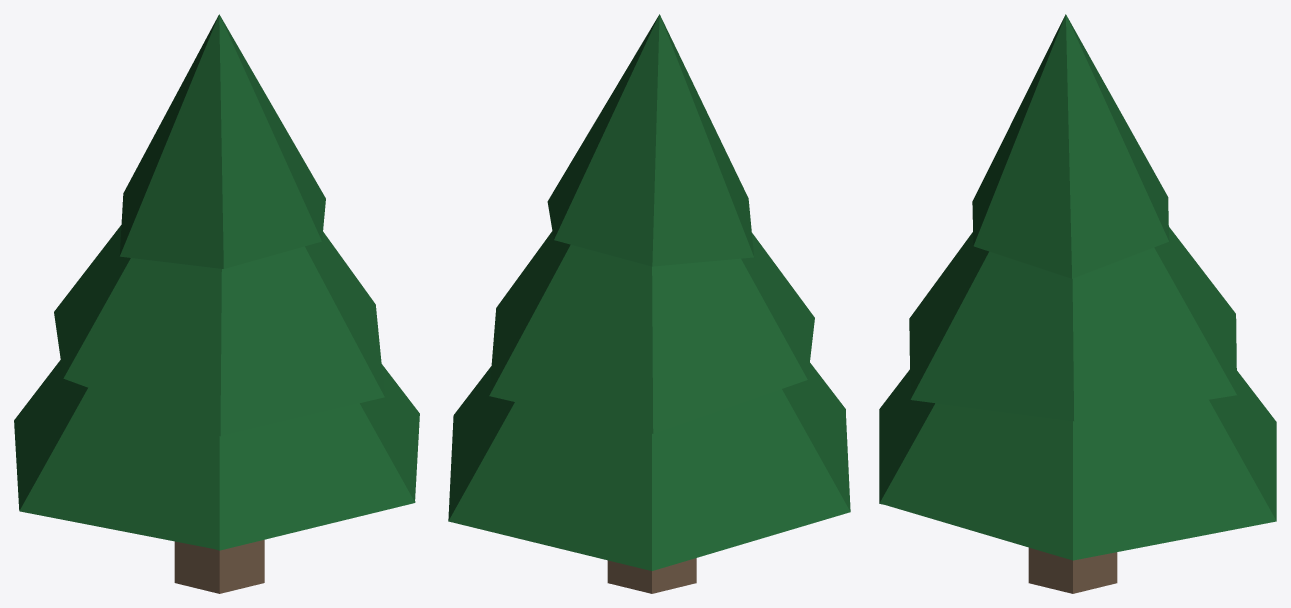
File: Pine3.fbx
The picture shows the model from 3 angles, left to right: view 1: azimuth 30°, elevation 25°; view 2: azimuth 150°, elevation 25°; view 3: azimuth 270°, elevation 25°; orthographic projection.
Visible parts, largest first — view 1: mergedBlocks; view 2: mergedBlocks; view 3: mergedBlocks.
Part boxes in pixels (left/top/right/bottom): mergedBlocks: left=14, top=14, right=419, bottom=593; mergedBlocks: left=448, top=14, right=850, bottom=593; mergedBlocks: left=879, top=14, right=1276, bottom=593.
Bounding box in the file's own units: 24.89 × 33.35 × 21.59.
